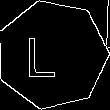L_N: (36, 29, 69, 80)
